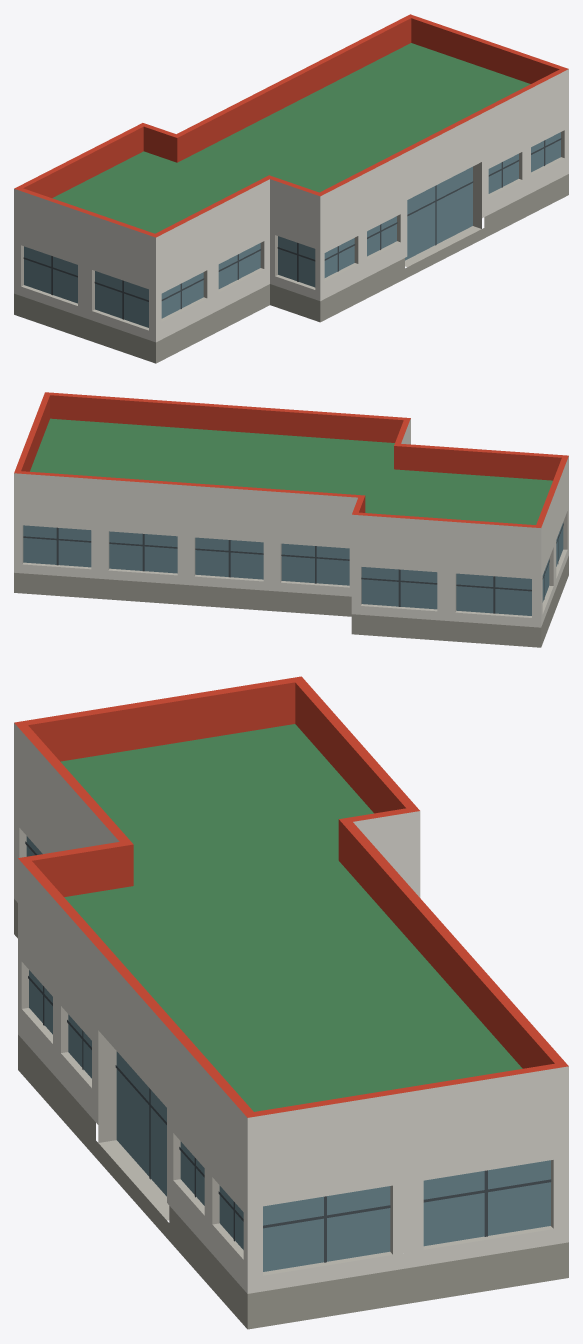
3 renders of one model, top to bottom at view 1: azimuth 30°, elevation 25°; view 2: azimuth 150°, elevation 25°; view 3: azimuth 270°, elevation 25°, orthographic. The views are drawn at different scales.
Visible parts, largest first — view 1: wing2__wall-plaster, wing2__roof, wing2__parapet-concrete, wing2__glass, wing2__base-stone, wing2__trim-concrete, wing2__frame; view 2: wing2__wall-plaster, wing2__roof, wing2__parapet-concrete, wing2__glass, wing2__base-stone, wing2__trim-concrete, wing2__frame; view 3: wing2__roof, wing2__wall-plaster, wing2__parapet-concrete, wing2__glass, wing2__base-stone, wing2__trim-concrete, wing2__frame.
Part boxes in pixels (x1,y1,x2,y2): wing2__wall-plaster: (14, 69, 568, 342); wing2__roof: (52, 43, 530, 233); wing2__parapet-concrete: (14, 14, 568, 237); wing2__glass: (24, 132, 560, 327); wing2__base-stone: (14, 174, 568, 363); wing2__trim-concrete: (21, 130, 564, 330); wing2__frame: (23, 138, 561, 319); wing2__wall-plaster: (14, 418, 568, 627); wing2__roof: (30, 418, 552, 524); wing2__parapet-concrete: (14, 392, 568, 527); wing2__glass: (23, 522, 563, 615); wing2__base-stone: (14, 556, 568, 647); wing2__trim-concrete: (22, 511, 567, 617); wing2__frame: (23, 523, 563, 613); wing2__roof: (60, 724, 522, 1111); wing2__wall-plaster: (14, 723, 568, 1293); wing2__parapet-concrete: (14, 676, 568, 1117); wing2__glass: (26, 836, 550, 1271); wing2__base-stone: (14, 899, 568, 1329); wing2__trim-concrete: (19, 828, 553, 1275); wing2__frame: (25, 841, 551, 1262).
Size of the model in its own units: 23.94 by 5.35 by 12.72.
